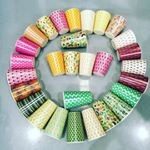cups: (60, 88, 95, 112), (58, 30, 89, 51)
